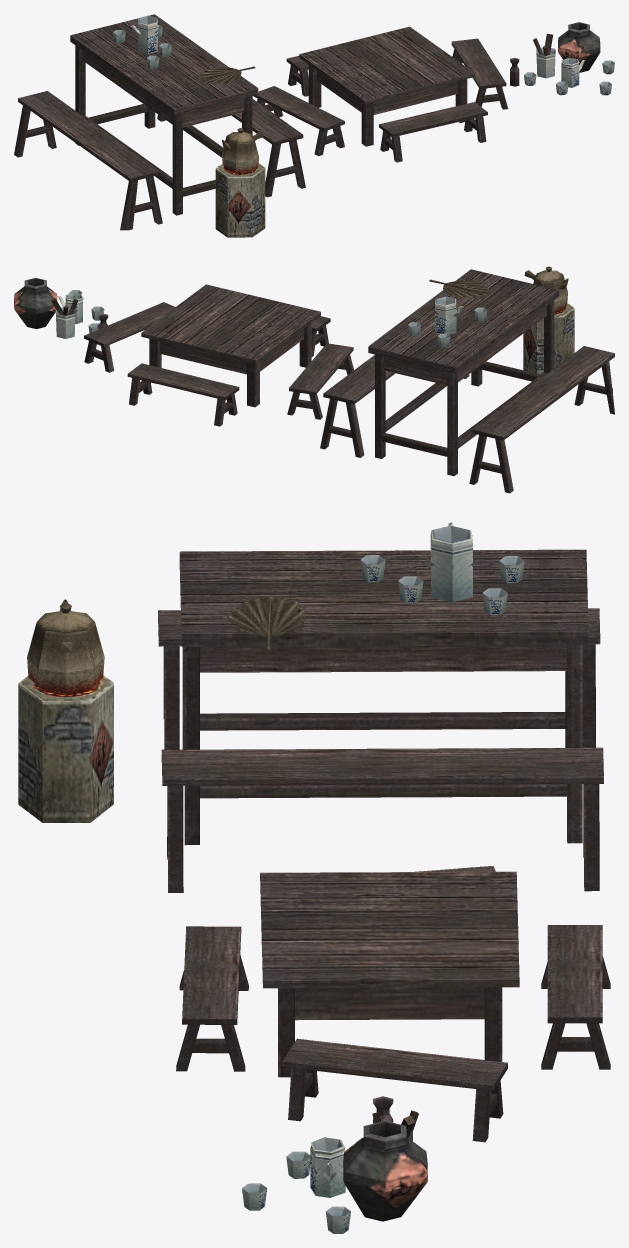
Rendered from 喝茶摊01.fbx.
3 views of the same model, one above another, from view 1: azimuth 30°, elevation 25°; view 2: azimuth 150°, elevation 25°; view 3: azimuth 270°, elevation 25° (orthographic). The views are drawn at different scales.
Visible parts, largest first — view 1: qingmo_obj_263 [10484186]; view 2: qingmo_obj_263 [10484186]; view 3: qingmo_obj_263 [10484186].
Boxes of the visible parts, left/top/right/bottom form: qingmo_obj_263 [10484186]: left=14, top=14, right=614, bottom=237; qingmo_obj_263 [10484186]: left=14, top=266, right=614, bottom=493; qingmo_obj_263 [10484186]: left=18, top=522, right=610, bottom=1233.
Size of the model in its own units: 37.55 by 17.99 by 9.19.
1 material, 1 textured.
